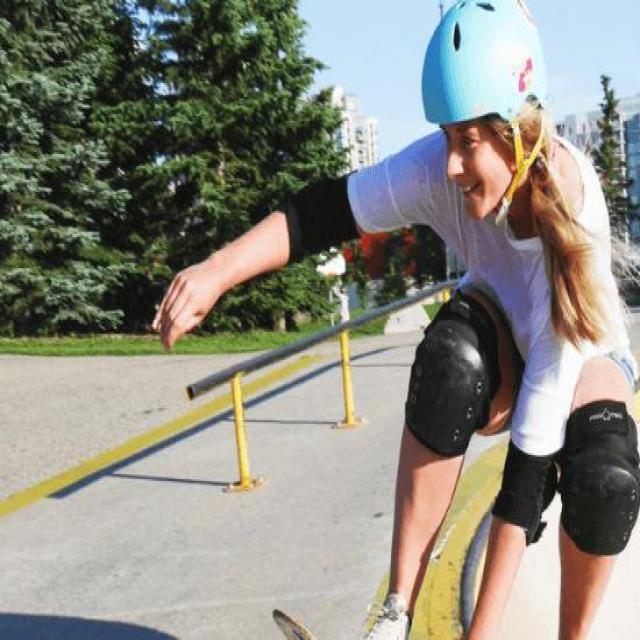Helmet: (420, 0, 548, 223)
